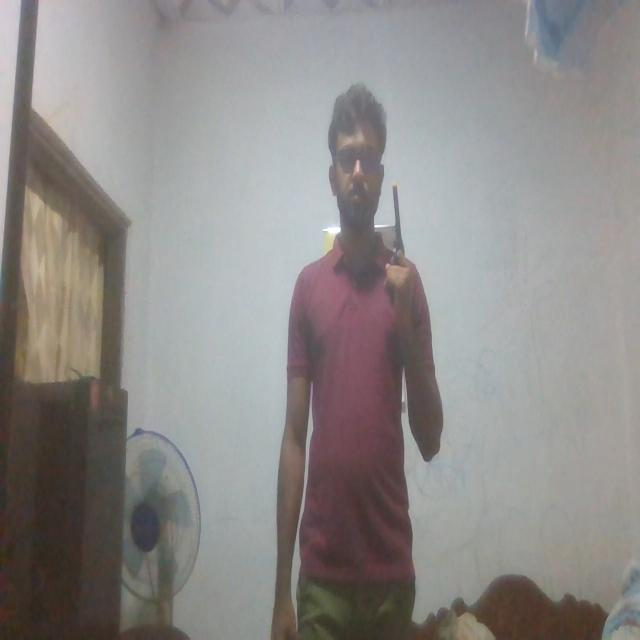Gun_Holder: (385, 172, 423, 314)
Person: (272, 89, 444, 640)
